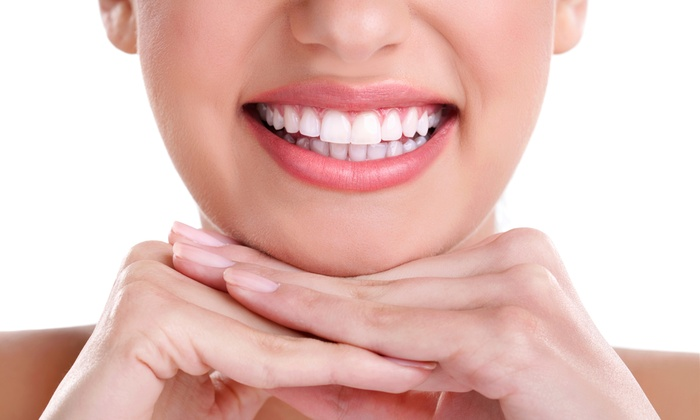shoot: (239, 80, 461, 192)
